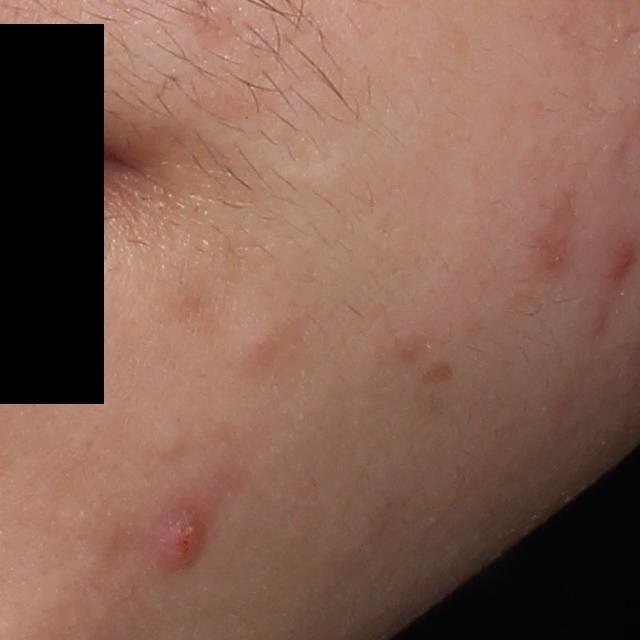comedo: (235, 322, 293, 365)
papule: (163, 507, 214, 579), (610, 239, 635, 285)
